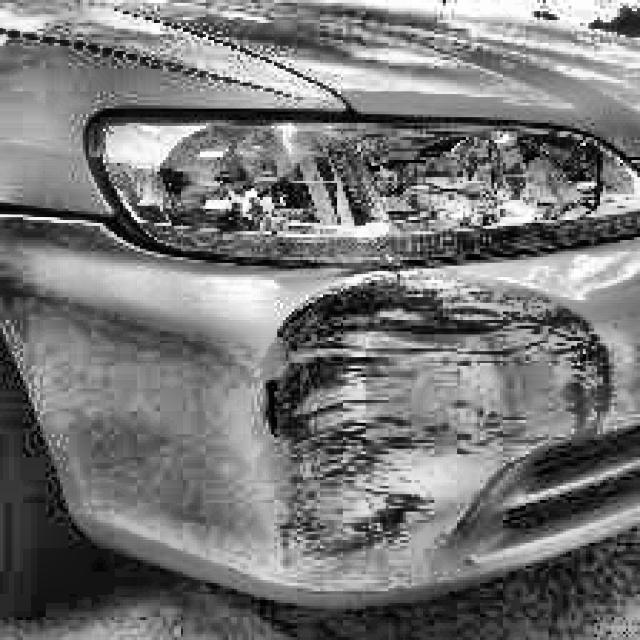bumper_dent: (262, 291, 506, 559)
